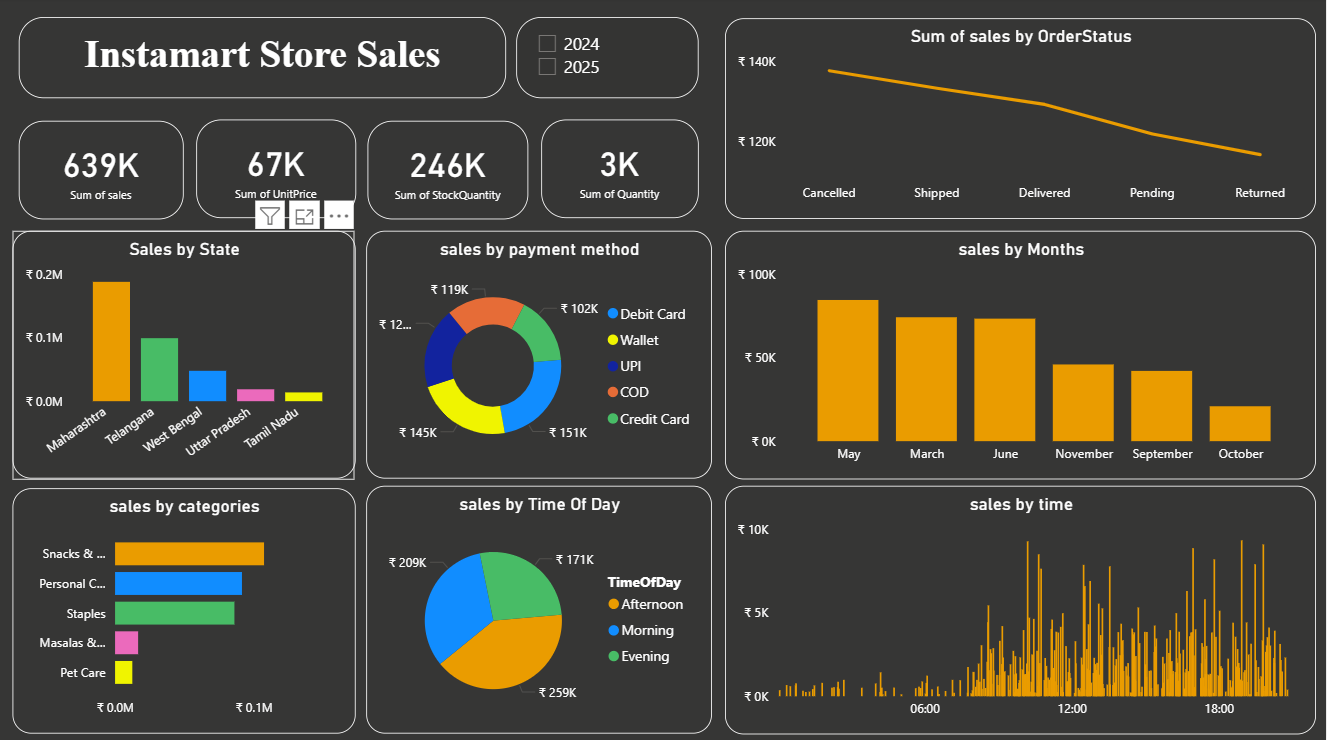

This screenshot's page, from the dashboard's own definition file:
{"tool":"powerbi","page":{"name":"Page 1","canvas":[1280,720],"ordinal":0},"visuals":[{"type":"card","fields":{"Values":["Sum(Merge67.TotalPrice)"]},"box":[18.5,119.8,159.3,95.1],"z":0},{"type":"card","fields":{"Values":["Sum(Merge67.StockQuantity)"]},"box":[354.3,119.8,155.6,95.1],"z":1000},{"type":"card","fields":{"Values":["Sum(Merge67.Quantity)"]},"box":[522.2,118.5,151.9,95.1],"z":2000},{"type":"card","fields":{"Values":["Sum(Merge67.UnitPrice)"]},"box":[188.9,118.5,154.3,95.1],"z":3000},{"type":"columnChart","title":" Sales by State","fields":{"Category":["Merge67.StateName"],"Y":["Sum(Merge67.TotalPrice)"]},"box":[12.3,225.9,330.9,239.5],"z":4000},{"type":"textbox","box":[18.1,19.3,470.5,78.4],"z":5000},{"type":"barChart","title":"sales by categories","fields":{"Category":["Merge67.categories"],"Y":["Sum(Merge67.sales)"]},"box":[12.3,474.1,330.9,237],"z":6000},{"type":"pieChart","title":"sales by Time Of Day","fields":{"Category":["Merge67.TimeOfDay"],"Y":["Sum(Merge67.sales)"]},"box":[353.1,471.6,333.3,239.5],"z":7000},{"type":"donutChart","title":"sales by payment method","fields":{"Y":["Sum(Merge67.sales)"],"Category":["Merge67.PaymentMethodName"]},"box":[353.1,225.9,333.3,239.5],"z":8000},{"type":"slicer","fields":{"Values":["Merge67.OrderDate.Variation.Date Hierarchy.Year"]},"box":[498.3,19.3,176.1,78.4],"z":9000},{"type":"columnChart","title":"sales by Months","fields":{"Category":["Merge67.Months"],"Y":["Sum(Merge67.sales)"]},"box":[699.7,225.6,570.6,240.1],"z":10000},{"type":"clusteredColumnChart","title":"sales by time","fields":{"Category":["Merge67.Order Time"],"Y":["Sum(Merge67.sales)"]},"box":[699.7,471.7,570.6,240.1],"z":11000},{"type":"lineChart","fields":{"Y":["Sum(Merge67.sales)"],"Category":["Merge67.OrderStatus"]},"box":[699.9,20,570.2,193.9],"z":12000}]}

Visuals, with their boxes in screenshot pixels (x1, y1, x2, y2), scaled from the page's 1280x720 canvas onto the 1327x740 screenshot:
card - Sum(Merge67.TotalPrice): 19, 123, 184, 221
card - Sum(Merge67.StockQuantity): 367, 123, 529, 221
card - Sum(Merge67.Quantity): 541, 122, 699, 220
card - Sum(Merge67.UnitPrice): 196, 122, 356, 220
" Sales by State" columnChart: 13, 232, 356, 478
textbox: 19, 20, 507, 100
"sales by categories" barChart: 13, 487, 356, 731
"sales by Time Of Day" pieChart: 366, 485, 712, 731
"sales by payment method" donutChart: 366, 232, 712, 478
slicer - Merge67.OrderDate.Variation.Date Hierarchy.Year: 517, 20, 699, 100
"sales by Months" columnChart: 725, 232, 1317, 479
"sales by time" clusteredColumnChart: 725, 485, 1317, 732
lineChart - Sum(Merge67.sales) x Merge67.OrderStatus: 726, 21, 1317, 220
